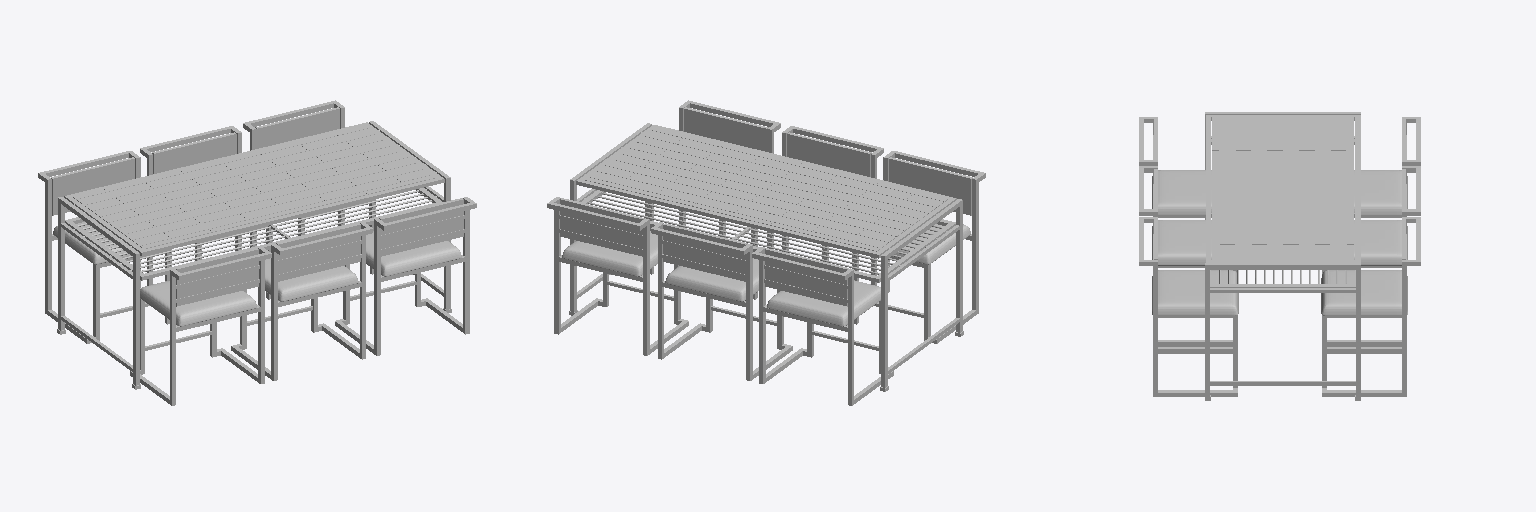
Rendered from woodDiningTable.obj.
3 renders of one model, left to right at view 1: azimuth 30°, elevation 25°; view 2: azimuth 150°, elevation 25°; view 3: azimuth 270°, elevation 25°, orthographic.
Parts seen in each view (by area): view 1: Body_Body142, chair4_Body2.007, chair6_Body2.009, chair5_Body2.006, chair1_Body2.004, chair2_Body2.005, chair3_Body2.008; view 2: Body_Body142, chair1_Body2.004, chair3_Body2.008, chair2_Body2.005, chair4_Body2.007, chair5_Body2.006, chair6_Body2.009; view 3: Body_Body142, chair6_Body2.009, chair3_Body2.008, chair5_Body2.006, chair2_Body2.005, chair4_Body2.007, chair1_Body2.004.
Part boxes in pixels (x1,y1,x2,y2): Body_Body142: (57,121,451,389); chair4_Body2.007: (130,247,271,405); chair6_Body2.009: (335,197,476,355); chair5_Body2.006: (231,222,372,380); chair1_Body2.004: (38,151,171,343); chair2_Body2.005: (140,126,272,299); chair3_Body2.008: (243,100,375,274); Body_Body142: (569,123,963,391); chair1_Body2.004: (752,247,893,405); chair3_Body2.008: (547,197,688,355); chair2_Body2.005: (651,222,792,380); chair4_Body2.007: (852,151,985,343); chair5_Body2.006: (751,126,883,299); chair6_Body2.009: (648,100,780,274); Body_Body142: (1205,112,1360,400); chair6_Body2.009: (1139,217,1238,396); chair3_Body2.008: (1321,217,1420,396); chair5_Body2.006: (1139,166,1236,346); chair2_Body2.005: (1322,166,1420,346); chair4_Body2.007: (1139,117,1211,217); chair1_Body2.004: (1354,117,1420,217).
Size of the model in its own units: 1.84 by 0.752 by 1.42.